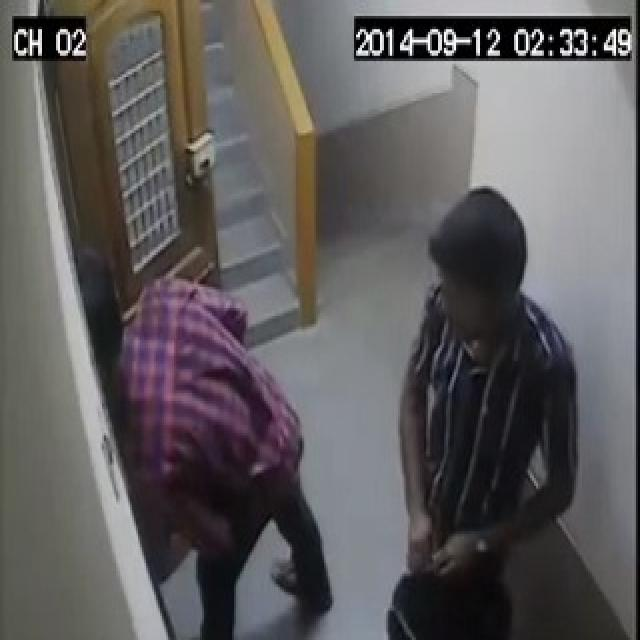burglary: (44, 247, 246, 583)
